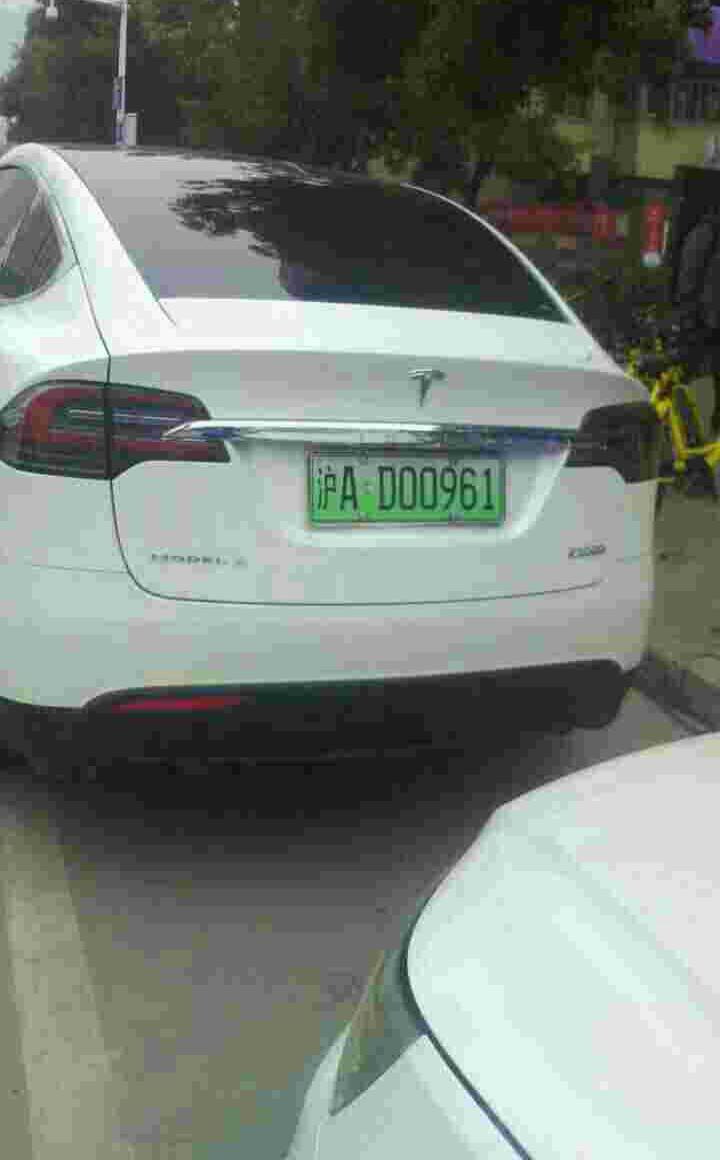car: (302, 451, 508, 534)
